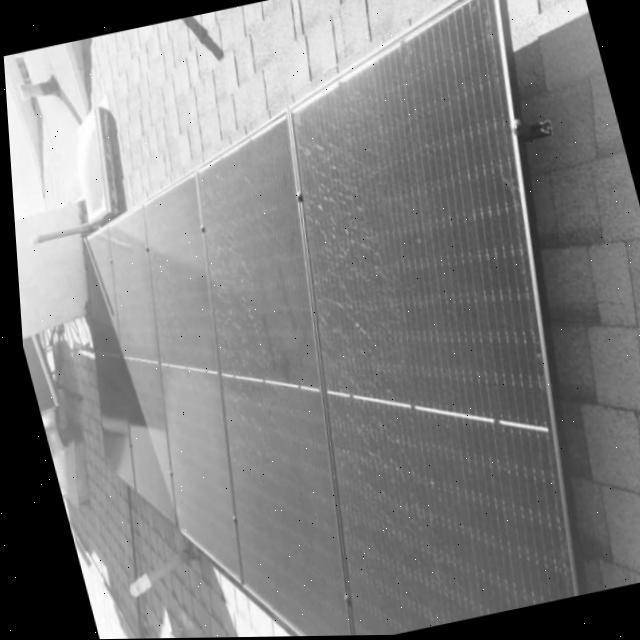Surface Contaminant: (77, 0, 566, 637)
